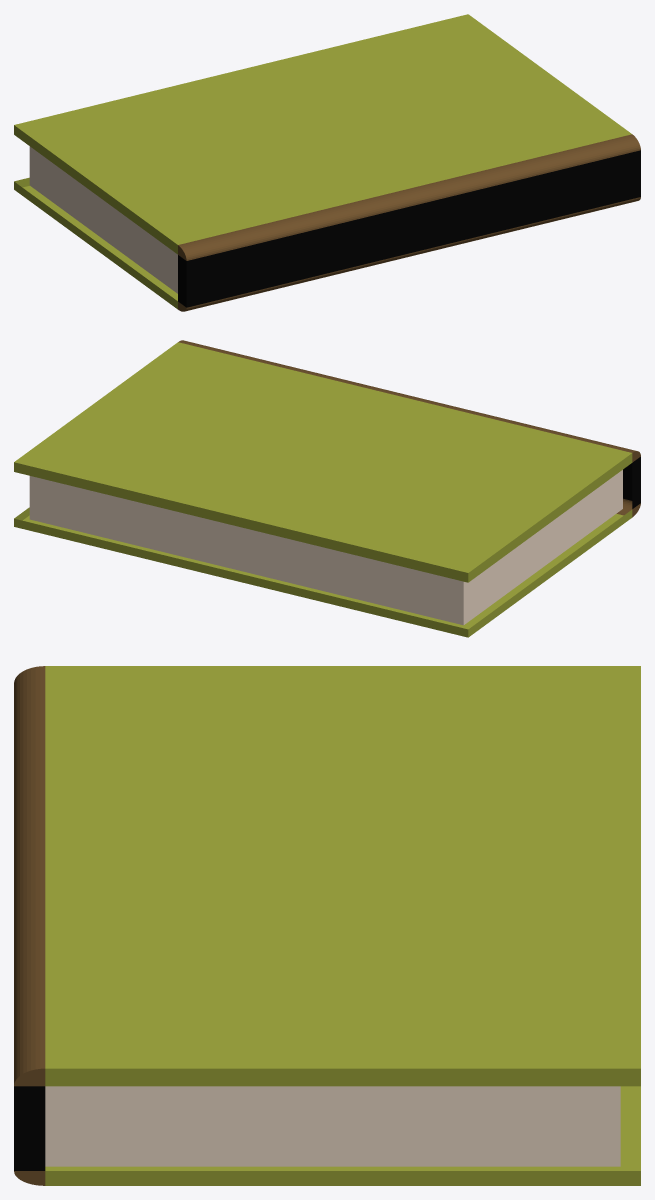
File: greenbook.dae
3 renders of one model, top to bottom at view 1: azimuth 30°, elevation 25°; view 2: azimuth 150°, elevation 25°; view 3: azimuth 270°, elevation 25°, orthographic. The views are drawn at different scales.
Parts seen in each view (by area): view 1: Cube, Cube.001; view 2: Cube, Cube.001; view 3: Cube, Cube.001.
Part boxes in pixels (x1,y1,x2,y2): Cube: [14, 14, 640, 311]; Cube.001: [29, 146, 177, 293]; Cube: [14, 340, 640, 637]; Cube.001: [29, 470, 622, 625]; Cube: [14, 666, 640, 1185]; Cube.001: [45, 1086, 620, 1166].
Size of the model in its own units: 14.72 by 9.69 by 2.
